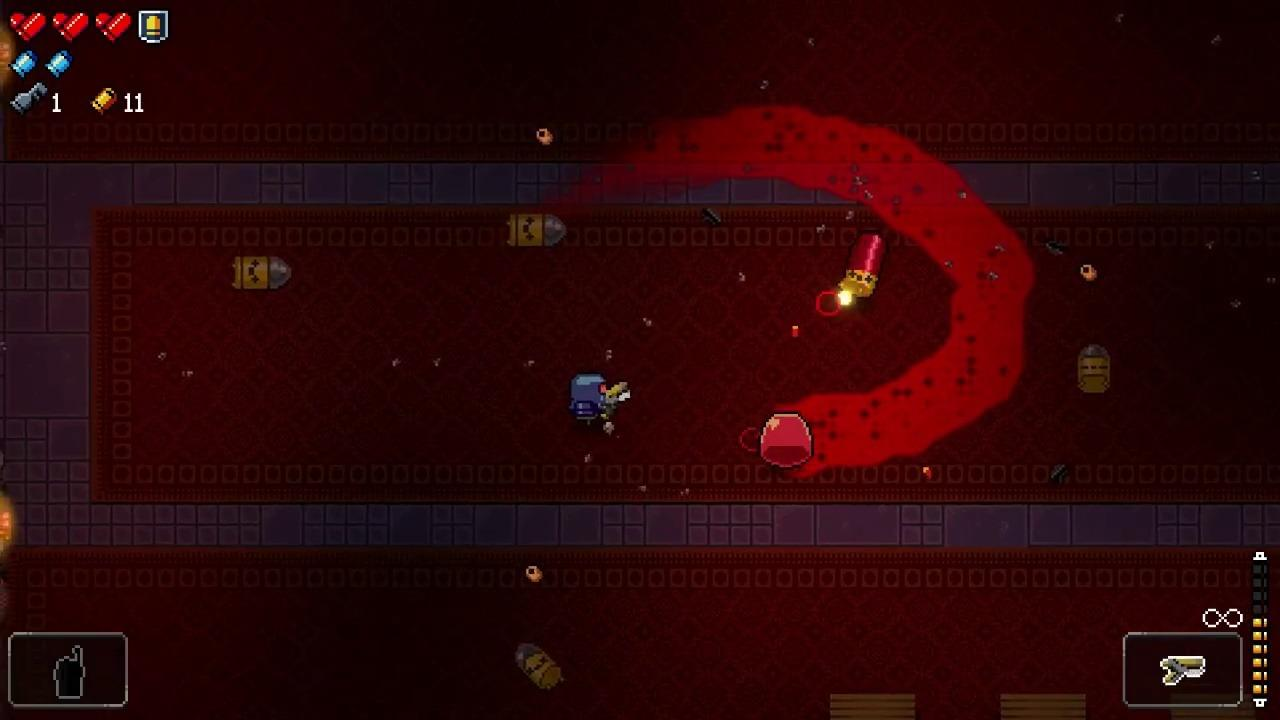blobulon_l: (759, 411, 814, 470)
dead_bullet_kin: (515, 644, 564, 690), (508, 212, 567, 249), (234, 256, 293, 290), (1077, 344, 1110, 393)
player: (570, 373, 608, 423)
red_shotgun_kin: (839, 230, 889, 298)
table: (830, 693, 915, 720), (1000, 695, 1087, 720)
